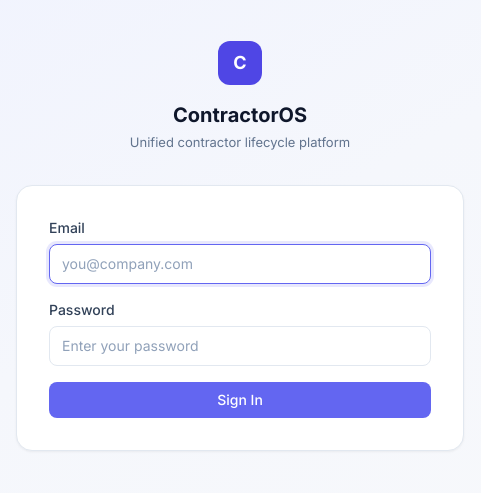
Test: Authentication › shows validation errors for empty fields
Click the submit button: click(240, 400) [49,382,431,418]
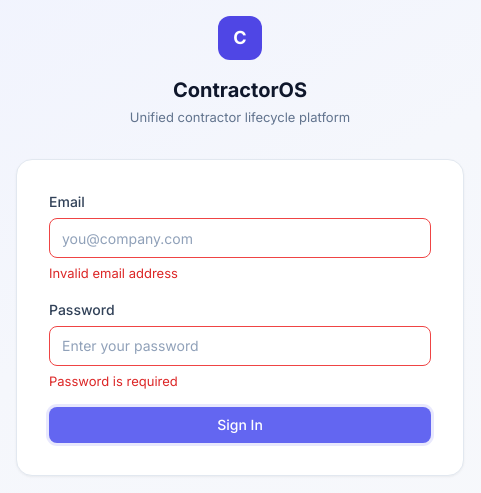
Expected: the text "email" is shown, [49,265,178,281]
